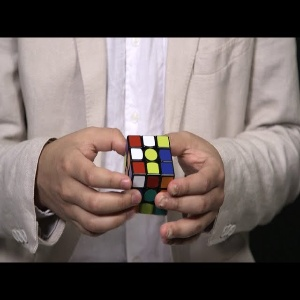cube: (123, 134, 174, 216)
